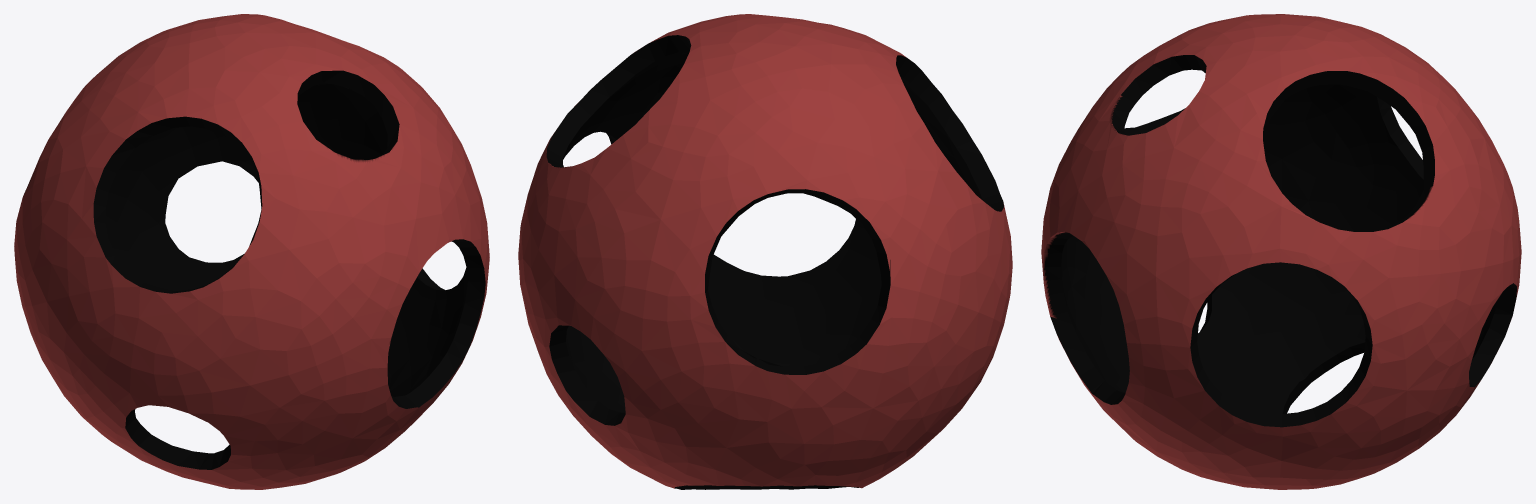
Rendered from RedPlanet.fbx.
The picture shows the model from 3 angles, left to right: view 1: azimuth 30°, elevation 25°; view 2: azimuth 150°, elevation 25°; view 3: azimuth 270°, elevation 25°; orthographic projection. The views are drawn at different scales.
Visible parts, largest first — view 1: RedPlanet; view 2: RedPlanet; view 3: RedPlanet.
Part boxes in pixels (left/top/right/bottom): RedPlanet: left=14, top=14, right=489, bottom=489; RedPlanet: left=518, top=14, right=1012, bottom=489; RedPlanet: left=1041, top=14, right=1521, bottom=489.
Size of the model in its own units: 179 by 185 by 186.
Materials: 1 (1 with a texture image).
